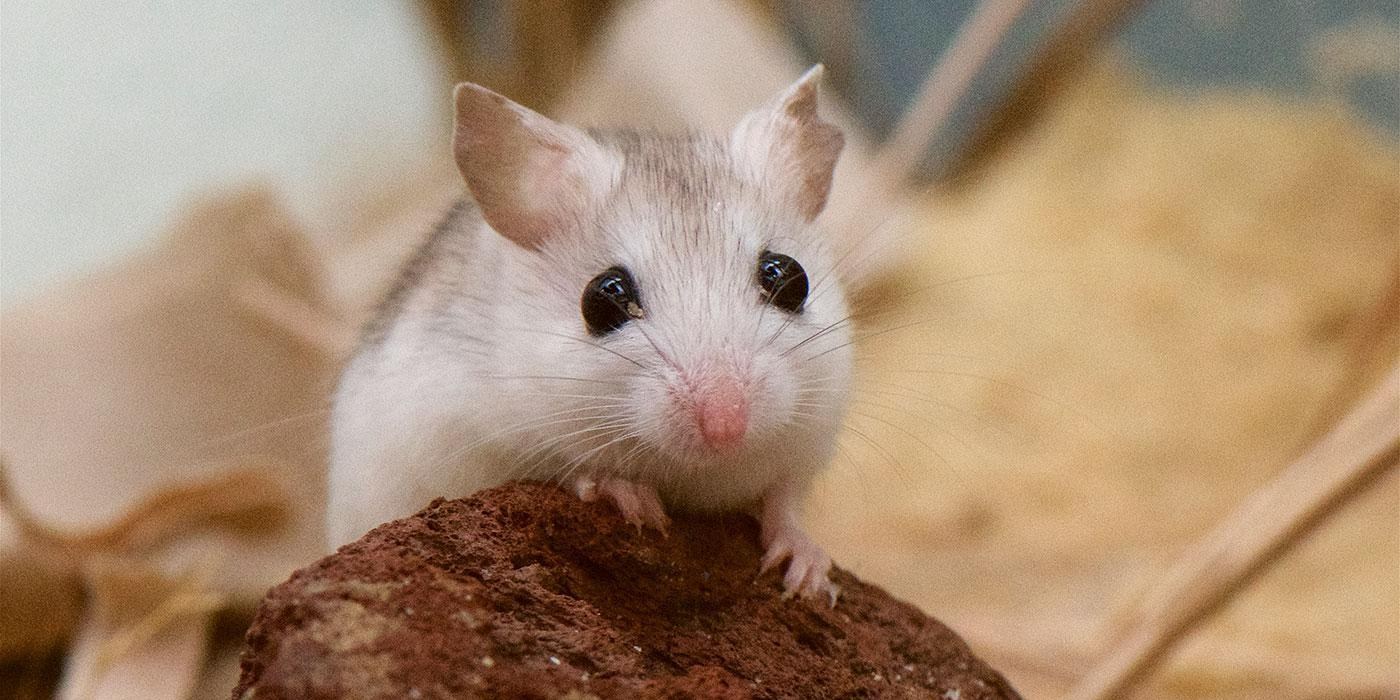rat: (327, 63, 856, 603)
